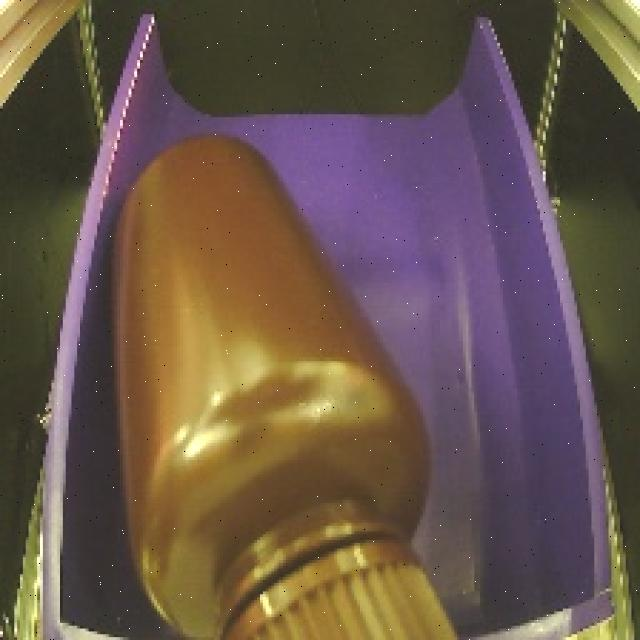plastic: (92, 108, 475, 640)
